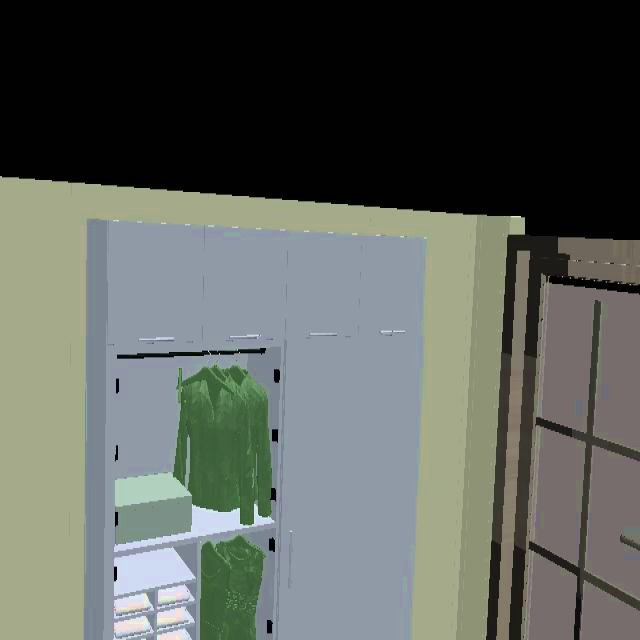wardrobe: (84, 219, 427, 640)
